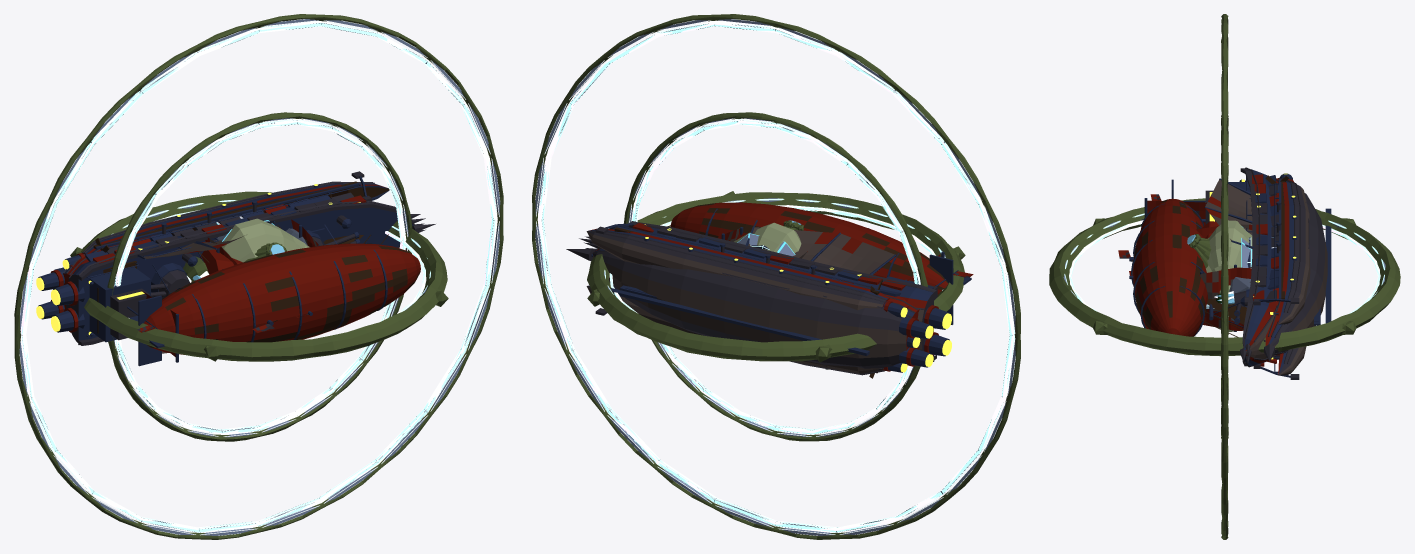
Rendered from SkyCitadel_Props.fbx.
3 renders of one model, left to right at view 1: azimuth 30°, elevation 25°; view 2: azimuth 150°, elevation 25°; view 3: azimuth 270°, elevation 25°, orthographic. The views are drawn at different scales.
Visible parts, largest first — view 1: scn_prop_warship_c, scn_prop_warship_d, scn_prop_hoop_e, scn_prop_keel_ring_i, scn_prop_keel_ring_k, scn_prop_keel_ring_a, scn_prop_keel_ring_j, scn_prop_warship_e, scn_prop_keel_ring_l, scn_prop_keel_ring_b, scn_prop_warship_b, scn_prop_lintel_d (+4 smaller); view 2: scn_prop_warship_b, scn_prop_hoop_e, scn_prop_warship_e, scn_prop_keel_ring_i, scn_prop_keel_ring_k, scn_prop_keel_ring_a, scn_prop_warship_c, scn_prop_warship_d, scn_prop_keel_ring_j, scn_prop_keel_ring_l, scn_prop_warship_a, scn_prop_keel_ring_b (+4 smaller); view 3: scn_prop_hoop_e, scn_prop_warship_c, scn_prop_warship_d, scn_prop_warship_b, scn_prop_warship_e, scn_prop_keel_ring_i, scn_prop_warship_a, scn_prop_lintel_d, scn_prop_hoop_a, scn_prop_hoop_f, scn_prop_keel_ring_j.
Boxes of the visible parts, x1,y1,x2,y2 form: scn_prop_warship_c: [95, 224, 420, 366]; scn_prop_warship_d: [51, 171, 435, 345]; scn_prop_hoop_e: [70, 191, 448, 361]; scn_prop_keel_ring_i: [14, 14, 503, 539]; scn_prop_keel_ring_k: [19, 19, 499, 535]; scn_prop_keel_ring_a: [19, 19, 500, 535]; scn_prop_keel_ring_j: [107, 112, 412, 441]; scn_prop_warship_e: [62, 181, 389, 362]; scn_prop_keel_ring_l: [114, 118, 407, 436]; scn_prop_keel_ring_b: [113, 118, 408, 437]; scn_prop_warship_b: [36, 201, 420, 336]; scn_prop_lintel_d: [221, 218, 309, 262]; scn_prop_warship_b: [566, 227, 933, 369]; scn_prop_hoop_e: [587, 191, 965, 362]; scn_prop_warship_e: [586, 225, 944, 375]; scn_prop_keel_ring_i: [532, 14, 1020, 539]; scn_prop_keel_ring_k: [535, 19, 1015, 535]; scn_prop_keel_ring_a: [535, 19, 1015, 535]; scn_prop_warship_c: [625, 202, 971, 378]; scn_prop_warship_d: [579, 221, 973, 361]; scn_prop_keel_ring_j: [624, 112, 927, 441]; scn_prop_keel_ring_l: [629, 118, 920, 436]; scn_prop_warship_a: [591, 226, 920, 348]; scn_prop_keel_ring_b: [628, 118, 921, 436]; scn_prop_hoop_e: [1049, 198, 1400, 356]; scn_prop_warship_c: [1131, 175, 1318, 336]; scn_prop_warship_d: [1150, 167, 1299, 379]; scn_prop_warship_b: [1118, 173, 1331, 361]; scn_prop_warship_e: [1141, 174, 1310, 375]; scn_prop_keel_ring_i: [1221, 14, 1228, 539]; scn_prop_warship_a: [1129, 178, 1320, 355]; scn_prop_lintel_d: [1206, 220, 1252, 331]; scn_prop_hoop_a: [1063, 213, 1385, 313]; scn_prop_hoop_f: [1069, 220, 1380, 308]; scn_prop_keel_ring_j: [1221, 115, 1228, 439].
Size of the model in its own units: 108 by 108 by 72.18.
